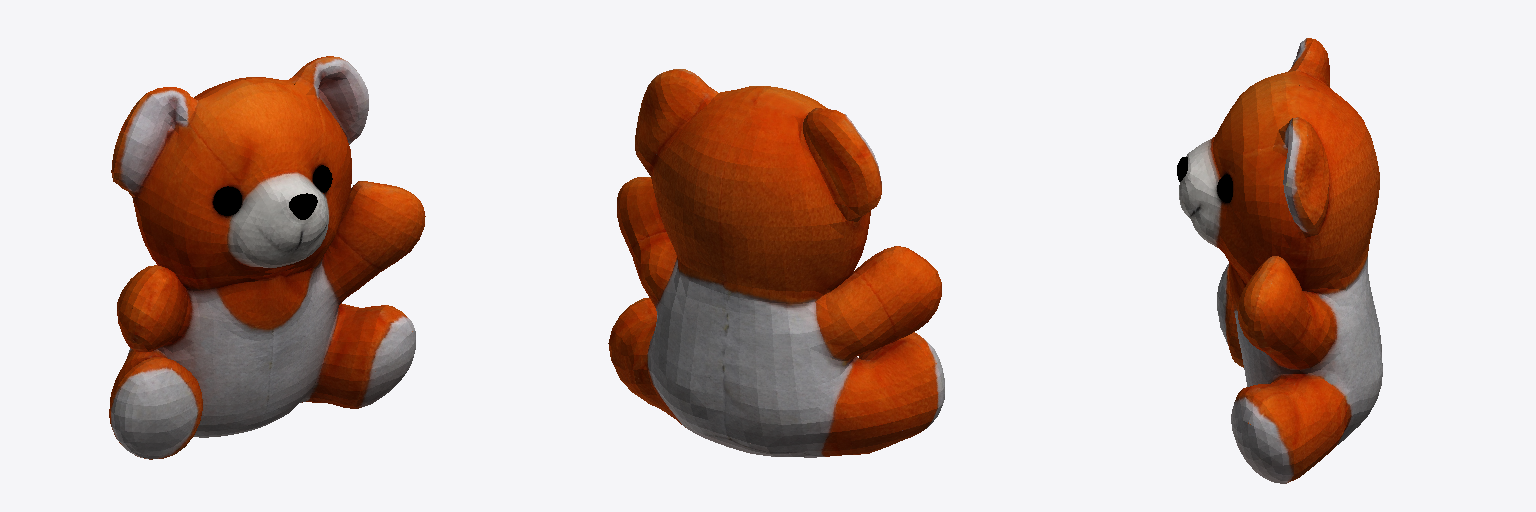
3 views of the same model, side by side, from view 1: azimuth 30°, elevation 25°; view 2: azimuth 150°, elevation 25°; view 3: azimuth 270°, elevation 25° (orthographic).
Visible parts, largest first — view 1: Bear; view 2: Bear; view 3: Bear.
Part boxes in pixels (x1,y1,x2,y2): Bear: (109, 56, 425, 459); Bear: (608, 69, 944, 457); Bear: (1177, 38, 1382, 483).
Bounding box in the file's own units: 5.32 × 5.64 × 3.
1 materials, 1 textured.